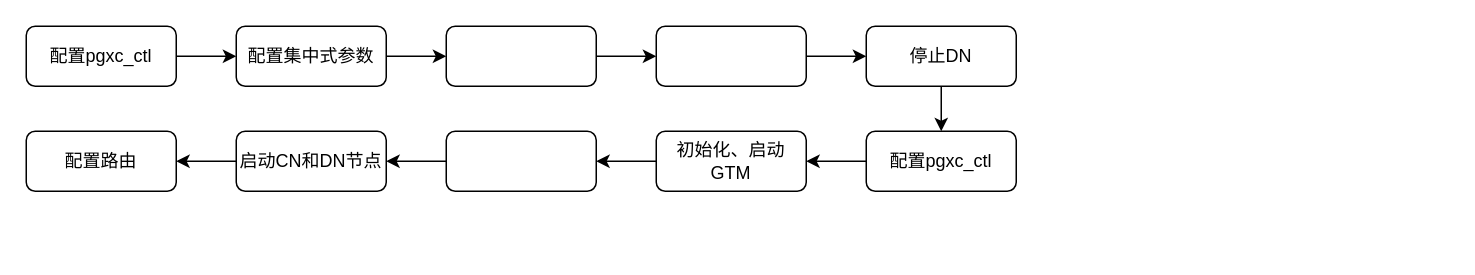
The diagram is 1475 pixels wide and 275 high, and some of its shapes have lost their labels. The shapes that lost their labels are listed below. From the top down, each one's centre as x and y in pixels, then its label:
(520,55): 初始化、启动DN
(730,55): 登录DN配路由
(520,160): 修改CN和DN参数
